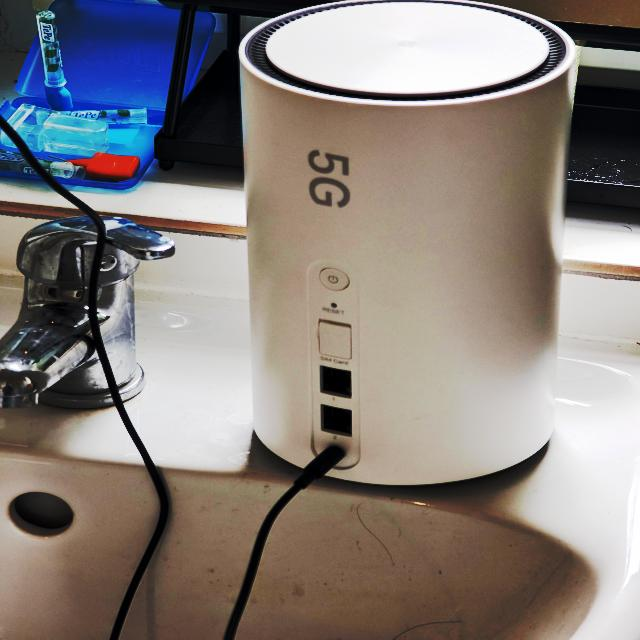lan: (319, 366, 352, 399), (321, 405, 354, 436)
modem: (236, 0, 568, 494)
onbutton: (316, 267, 352, 293)
powcab: (227, 443, 404, 557)
sim: (316, 316, 356, 366)
